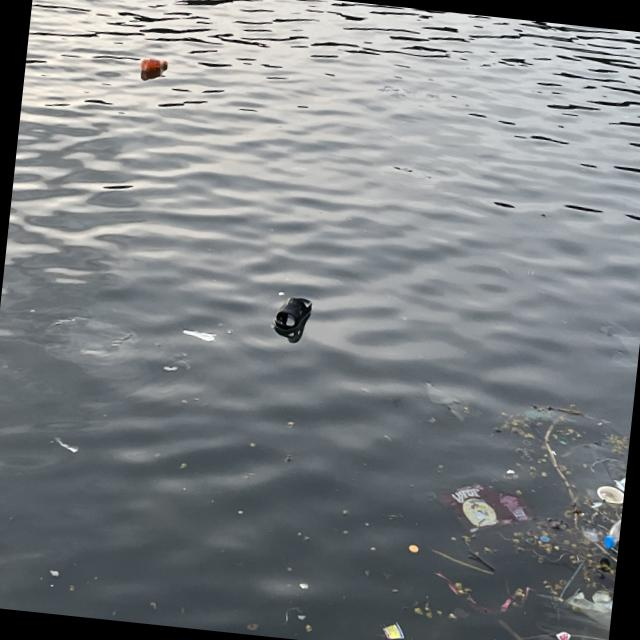plastic: (602, 510, 622, 553), (140, 58, 168, 78)
plastic bottle: (39, 310, 135, 382), (435, 480, 536, 540), (555, 436, 628, 509), (563, 582, 614, 634), (420, 379, 472, 424), (594, 484, 624, 511), (183, 325, 214, 343), (382, 620, 406, 640), (614, 475, 626, 494), (582, 530, 598, 542), (554, 630, 569, 640)
unknow: (432, 572, 532, 619), (272, 292, 312, 337), (523, 408, 553, 422)
